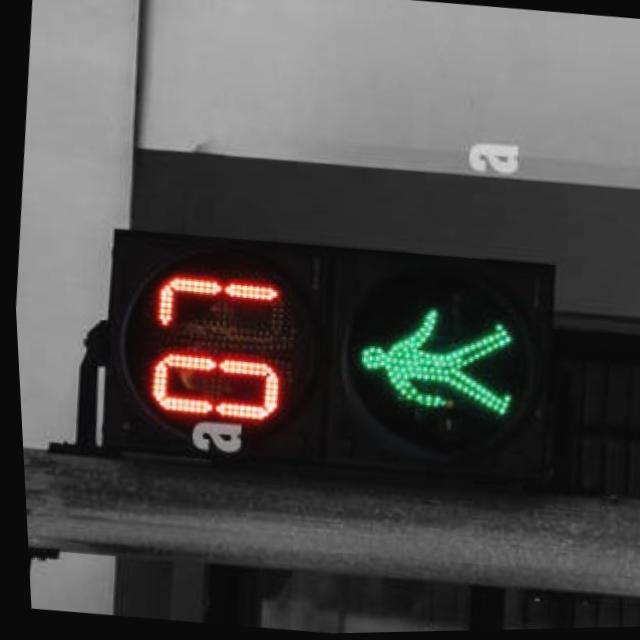green_light: (329, 301, 526, 436)
